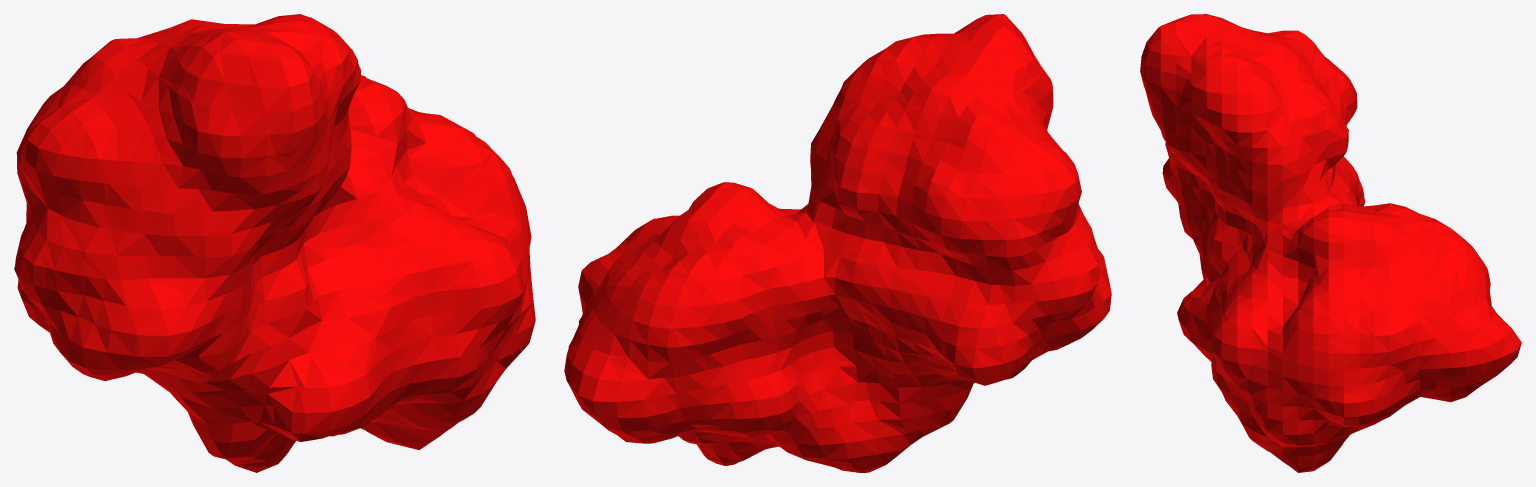
The model's file is rpoE_coarse.dae.
3 renders of one model, left to right at view 1: azimuth 30°, elevation 25°; view 2: azimuth 150°, elevation 25°; view 3: azimuth 270°, elevation 25°, orthographic. The views are drawn at different scales.
Parts seen in each view (by area): view 1: rpoE; view 2: rpoE; view 3: rpoE.
Part boxes in pixels (left/top/right/bottom): rpoE: left=14, top=14, right=535, bottom=472; rpoE: left=564, top=14, right=1111, bottom=472; rpoE: left=1140, top=14, right=1521, bottom=472.
Size of the model in its own units: 80.73 by 73.22 by 68.6.
